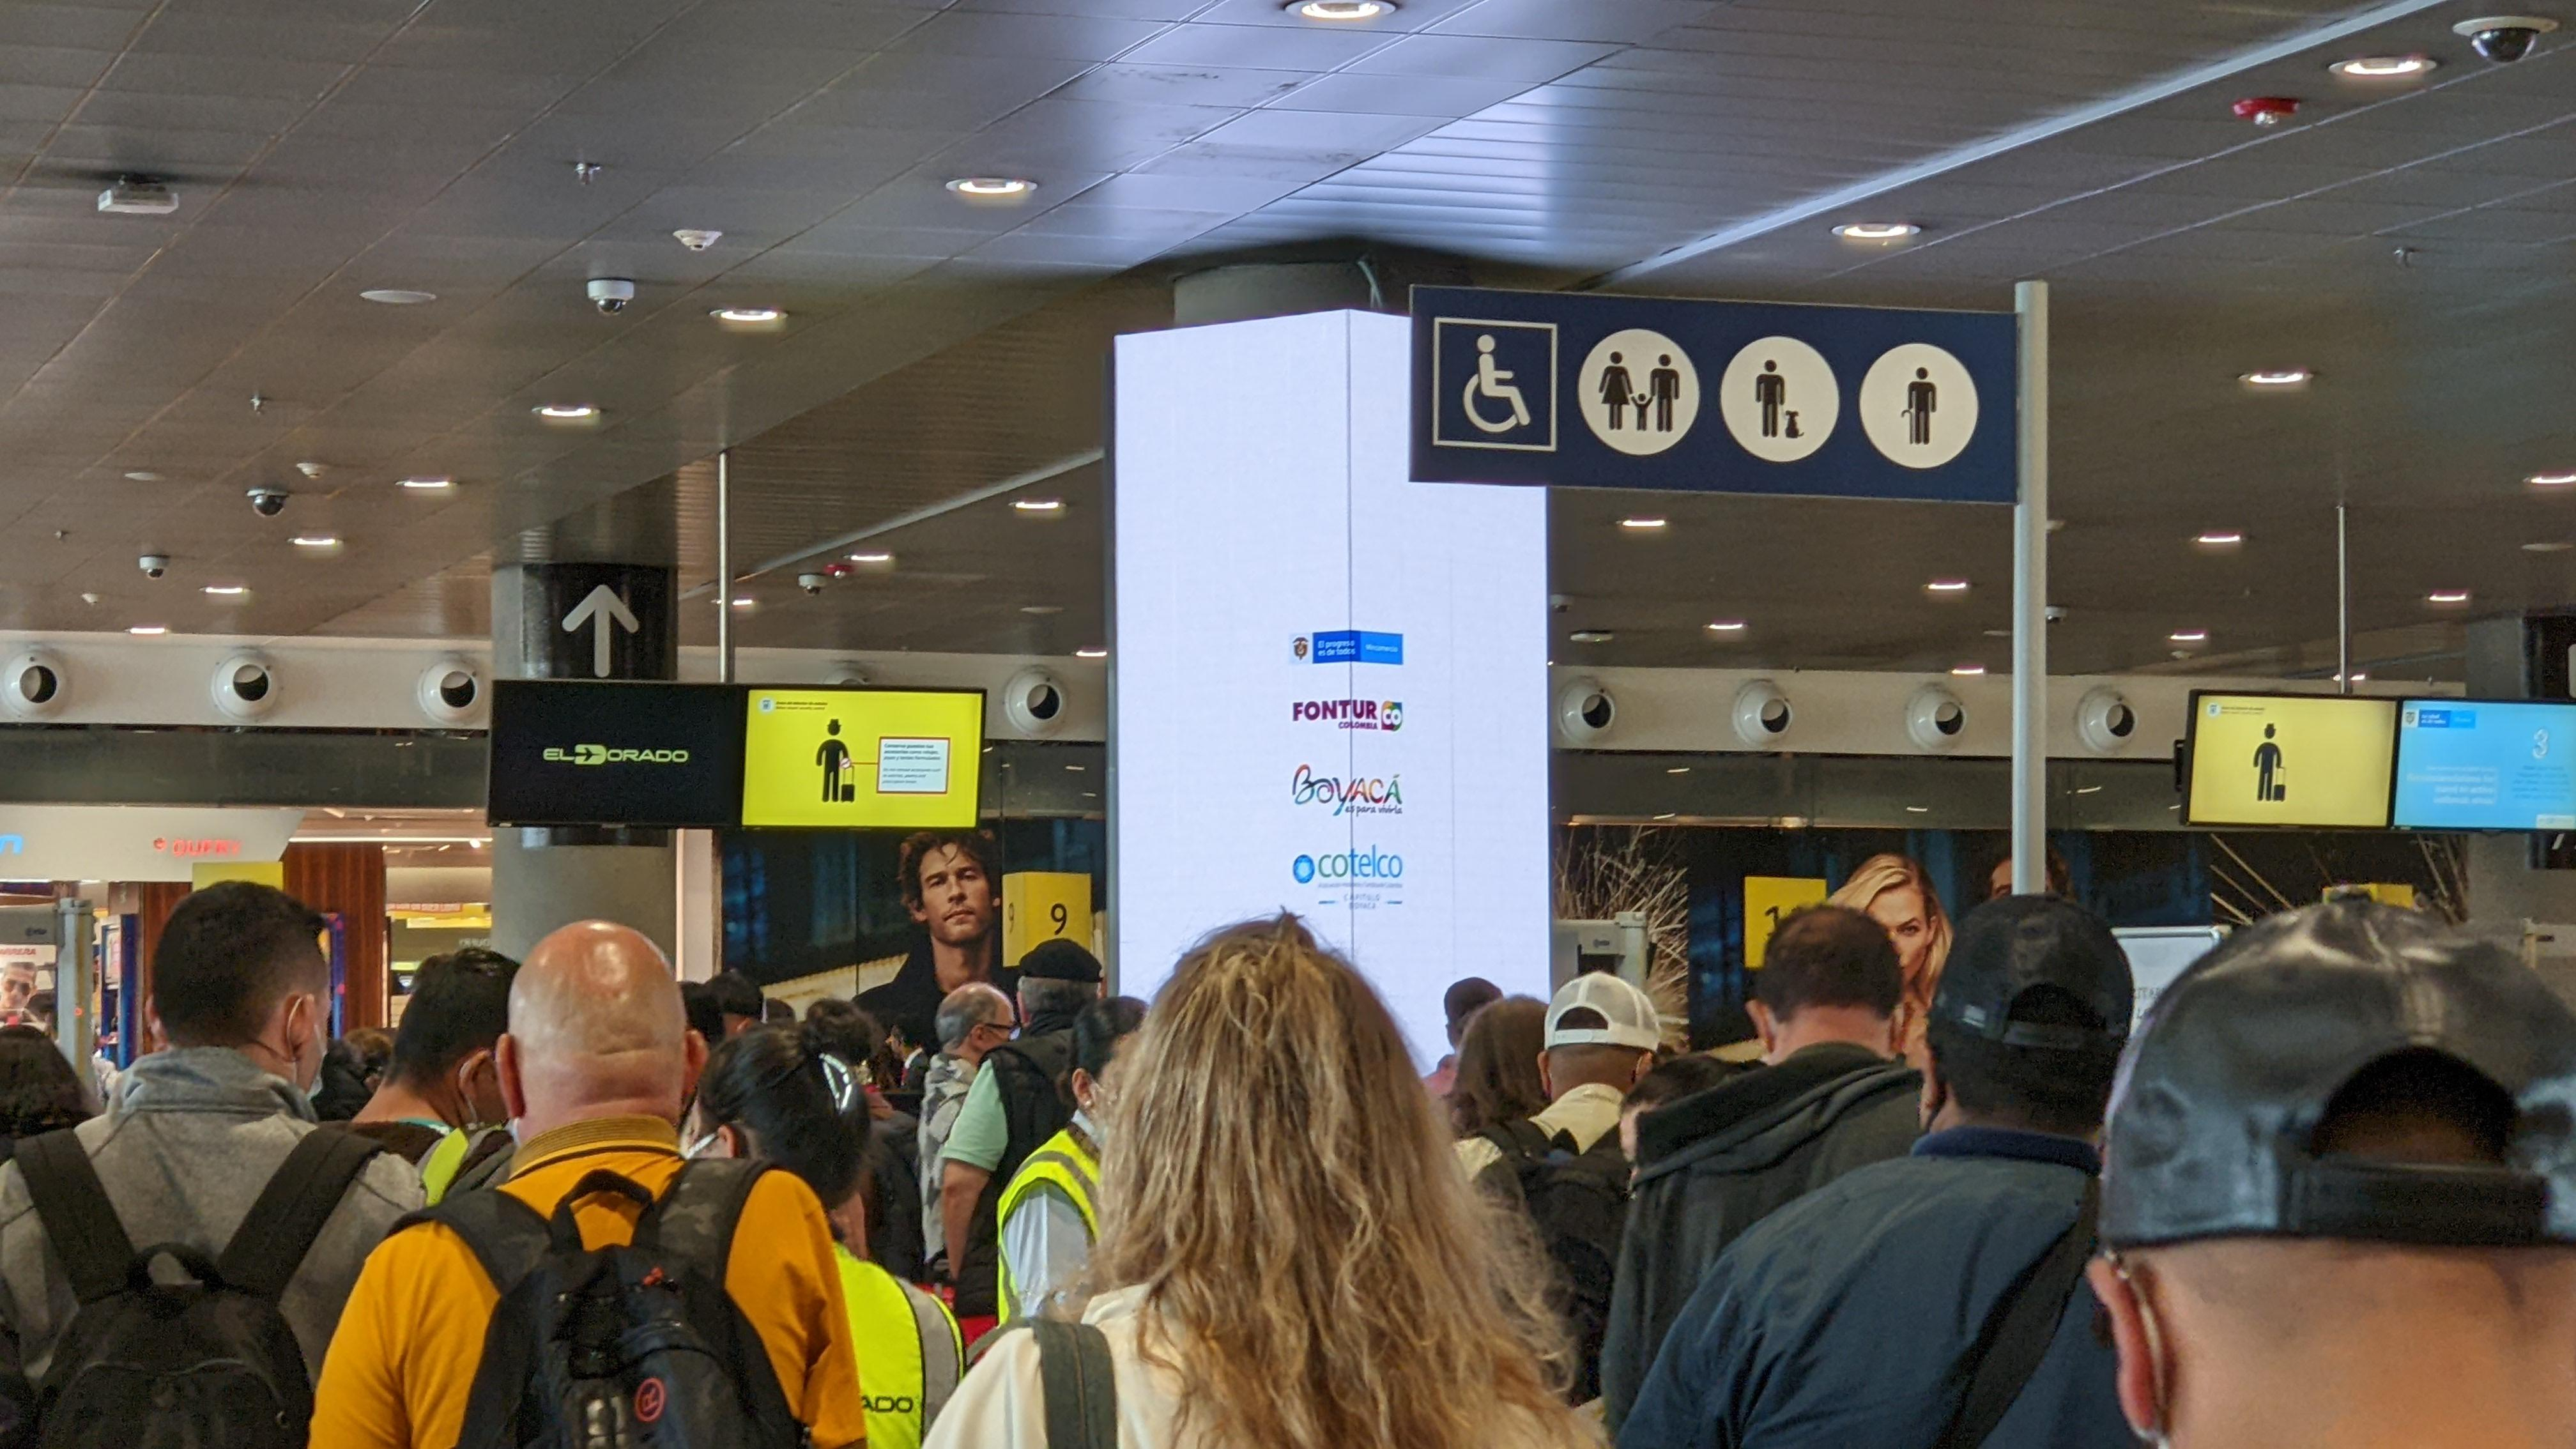handicapped symbol: (1460, 334, 1532, 435)
up arrow: (556, 580, 646, 679)
